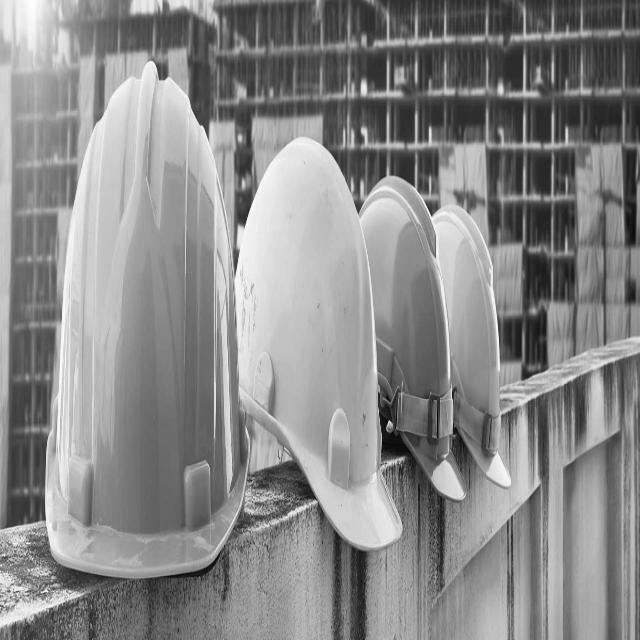safety_helmet: (44, 212, 252, 582)
